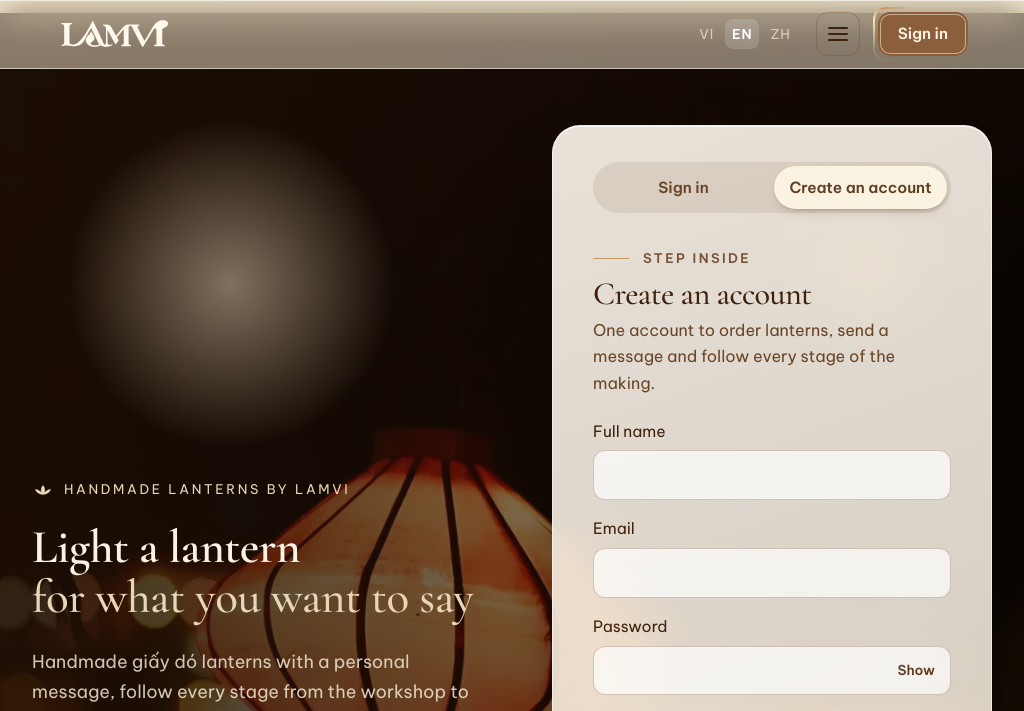
Test: footer › /register khi needsConfirmation: không tabs, footer có link đăng nhập
Check: the heading "Create an account" is shown, box [593,274,811,313]
Type "An" into the field labelled "Full name". click: (772, 475)
box: [593,450,951,500]
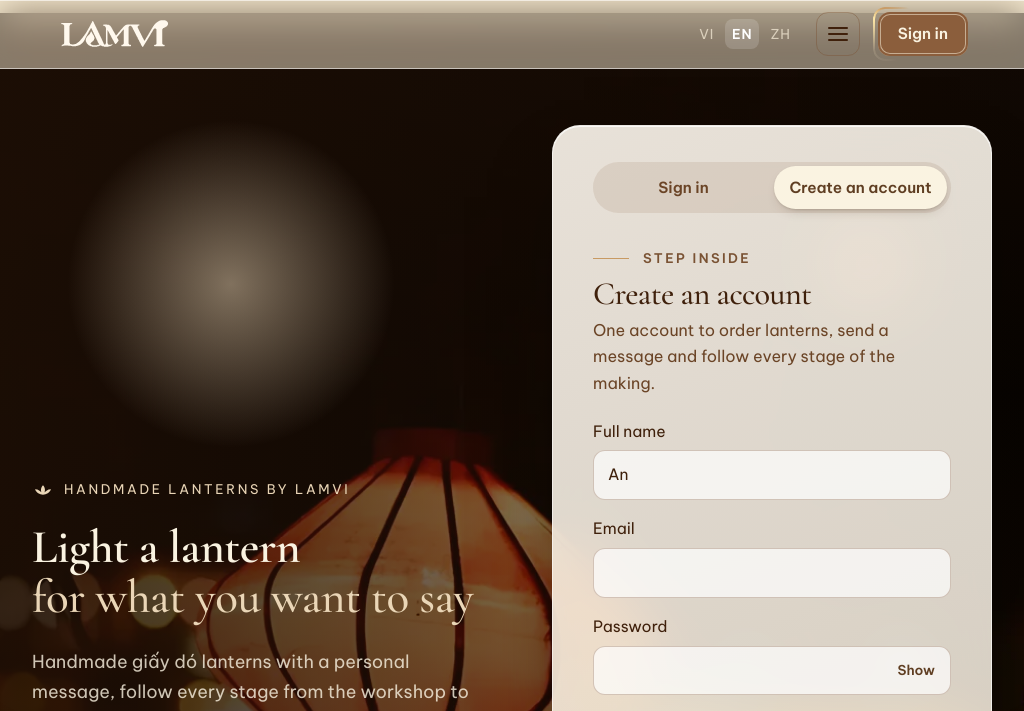
Type "an@example.com" into the field labelled "Email". click: (772, 573)
box: [593,548,951,598]
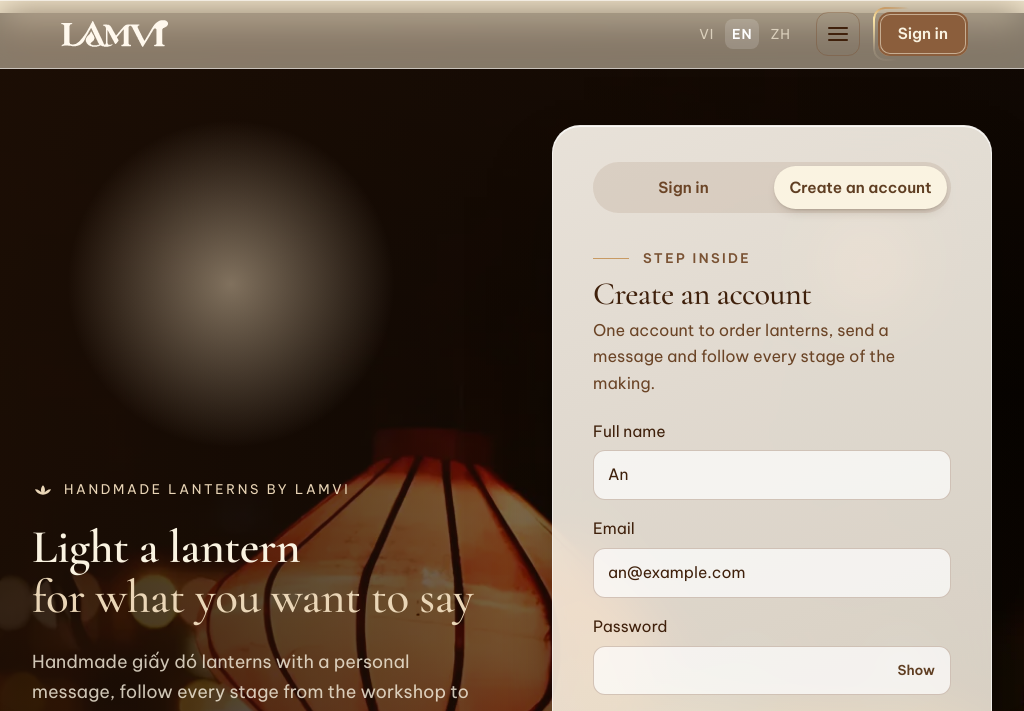
Type "Gio-Hoa#Sen2026" into the password field labelled "Password". click: (772, 670)
box: [593,646,951,695]
(page scrolled)
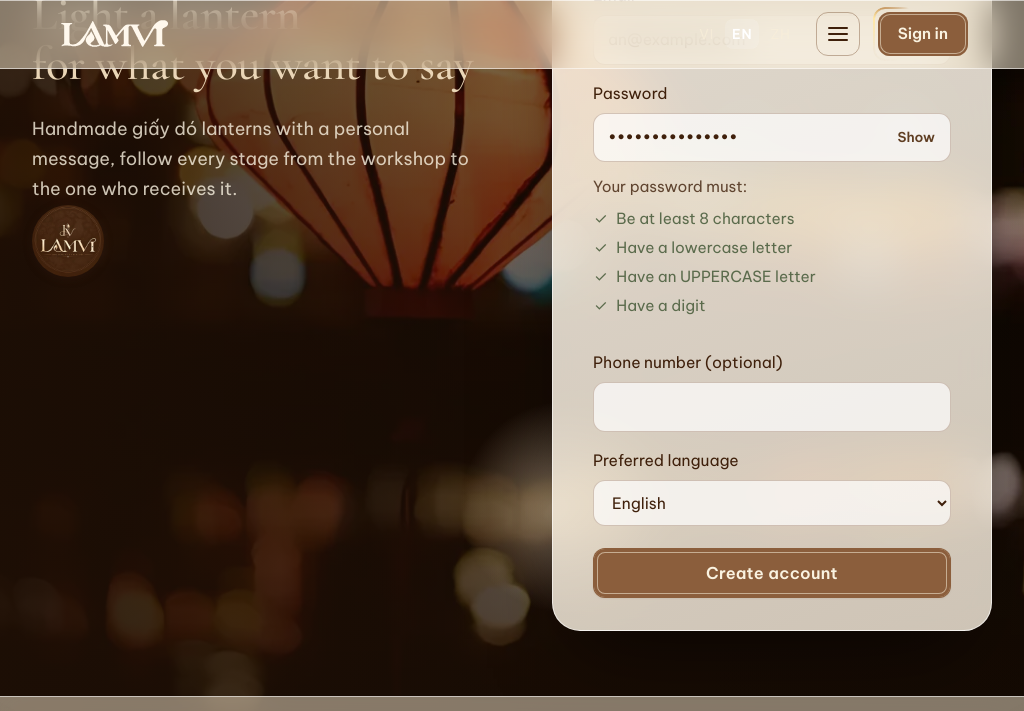
Click the button "Create account". click: (772, 573)
box: [593,548,951,598]
(page scrolled)
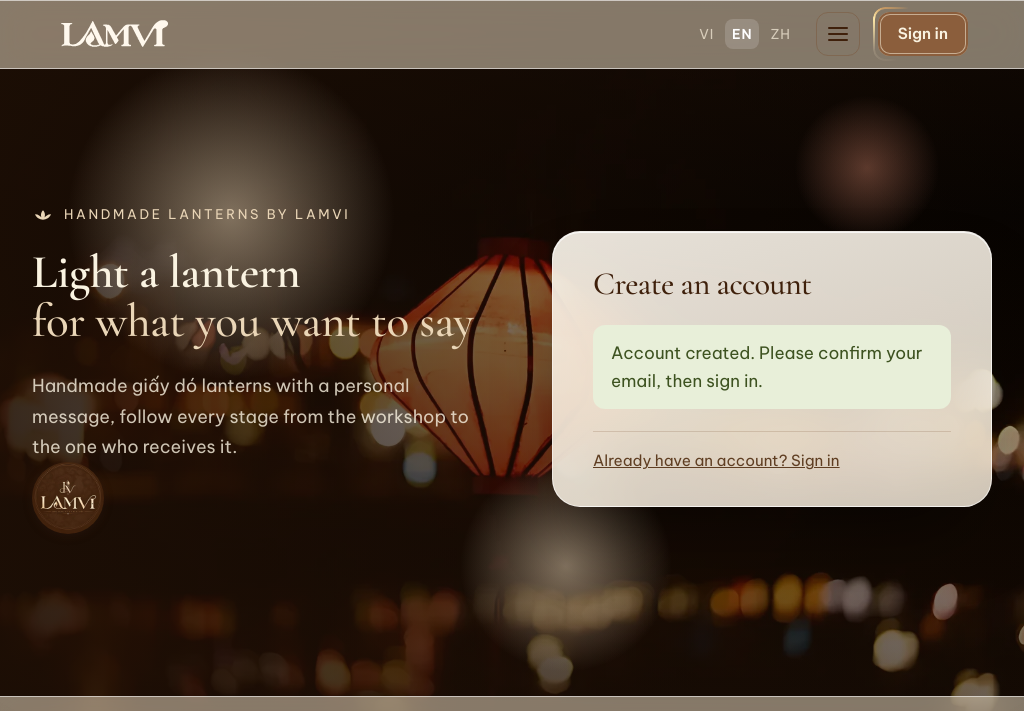
Check: the number of headings is 1, box [593,264,811,303]
Check: the message "Account created. Please confirm your email, then sign in." is shown, box [593,325,951,409]
